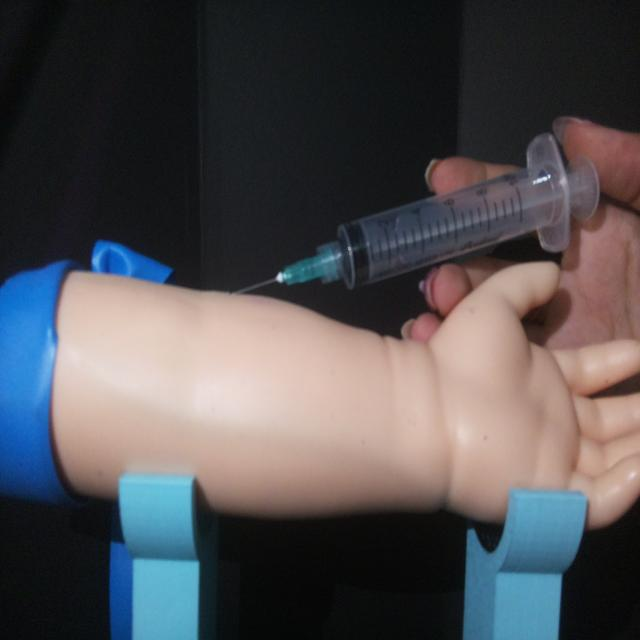23deg: (227, 128, 602, 301)
